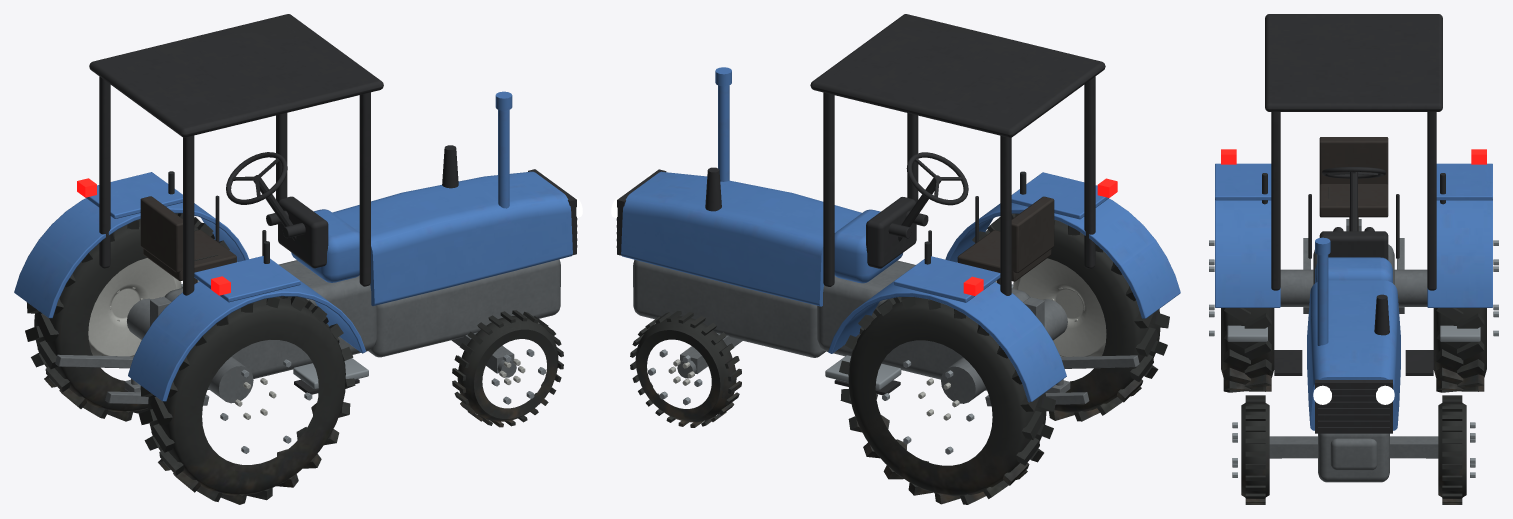
File: tractor_used.glb
The picture shows the model from 3 angles, left to right: view 1: azimuth 30°, elevation 25°; view 2: azimuth 150°, elevation 25°; view 3: azimuth 270°, elevation 25°; orthographic projection. The views are drawn at different scales.
Parts seen in each view (by area): view 1: CabFrame, Bonnet, Wheel3_Tyre, Mudguards, Castings, Wheel2_Tyre, Wheel1_Tyre, Wheel2_Rim, Seat, Dash, Tank, Hitch (+5 smaller); view 2: CabFrame, Bonnet, Wheel2_Tyre, Mudguards, Castings, Wheel3_Tyre, Wheel0_Tyre, Wheel3_Rim, Seat, Dash, Tank, Hitch (+5 smaller); view 3: CabFrame, Mudguards, Bonnet, Castings, Seat, Wheel3_Tyre, Wheel2_Tyre, Grille, Wheel0_Tyre, Wheel1_Tyre, Dash, Tank (+10 smaller).
Boxes of the visible parts, left/top/right/bottom form: CabFrame: left=89, top=14, right=383, bottom=295; Bonnet: left=332, top=171, right=572, bottom=305; Wheel3_Tyre: left=138, top=296, right=355, bottom=504; Mudguards: left=14, top=172, right=366, bottom=401; Castings: left=127, top=259, right=560, bottom=403; Wheel2_Tyre: left=25, top=213, right=229, bottom=421; Wheel1_Tyre: left=452, top=310, right=563, bottom=427; Wheel2_Rim: left=88, top=258, right=181, bottom=356; Seat: left=140, top=196, right=236, bottom=283; Dash: left=215, top=195, right=328, bottom=268; Tank: left=291, top=209, right=359, bottom=282; Hitch: left=55, top=296, right=209, bottom=405; CabFrame: left=810, top=14, right=1105, bottom=295; Bonnet: left=621, top=171, right=861, bottom=306; Wheel2_Tyre: left=839, top=297, right=1055, bottom=504; Mudguards: left=828, top=172, right=1180, bottom=402; Castings: left=633, top=259, right=1067, bottom=403; Wheel3_Tyre: left=972, top=213, right=1169, bottom=421; Wheel0_Tyre: left=630, top=311, right=741, bottom=427; Wheel3_Rim: left=1013, top=258, right=1106, bottom=356; Seat: left=957, top=196, right=1054, bottom=284; Dash: left=866, top=196, right=978, bottom=268; Tank: left=834, top=209, right=902, bottom=283; Hitch: left=985, top=297, right=1139, bottom=406; CabFrame: left=1265, top=14, right=1442, bottom=290; Mudguards: left=1215, top=163, right=1492, bottom=307; Bonnet: left=1307, top=280, right=1400, bottom=430; Castings: left=1269, top=244, right=1438, bottom=482; Seat: left=1319, top=137, right=1388, bottom=231; Wheel3_Tyre: left=1221, top=308, right=1274, bottom=392; Wheel2_Tyre: left=1433, top=308, right=1486, bottom=392; Grille: left=1315, top=379, right=1392, bottom=433; Wheel0_Tyre: left=1438, top=395, right=1466, bottom=504; Wheel1_Tyre: left=1241, top=395, right=1269, bottom=504; Dash: left=1308, top=194, right=1399, bottom=260; Tank: left=1315, top=257, right=1392, bottom=282.
Size of the model in its own units: 3.31 by 2.44 by 1.86.
Materials: 17 (13 with a texture image).
